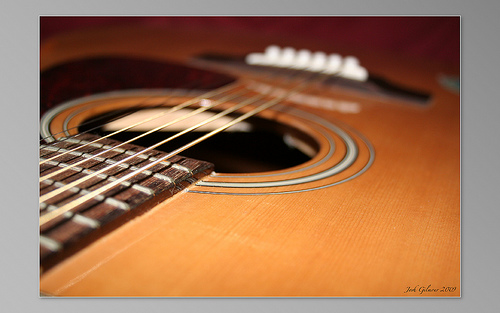guitar: (40, 17, 458, 295)
